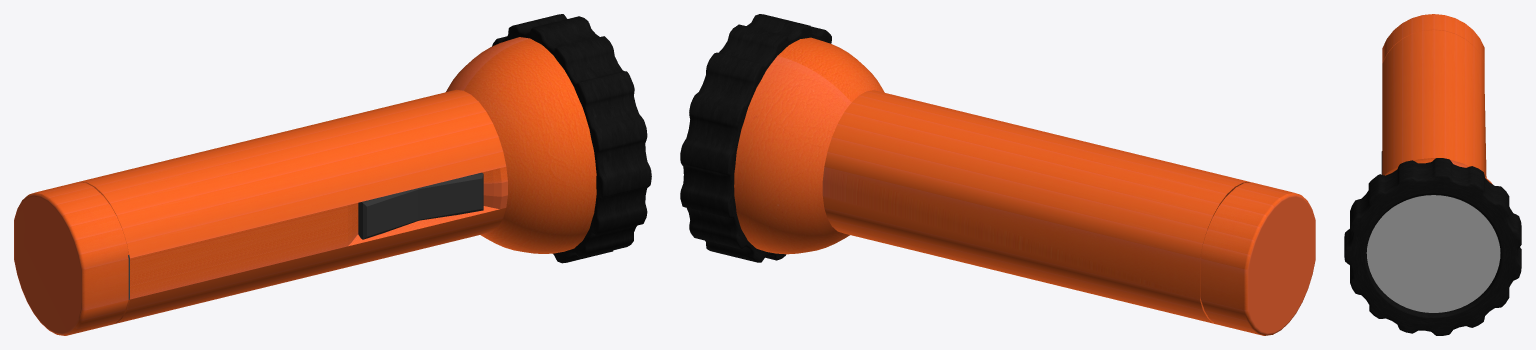
The model's file is flashlight3.fbx.
3 views of the same model, side by side, from view 1: azimuth 30°, elevation 25°; view 2: azimuth 150°, elevation 25°; view 3: azimuth 270°, elevation 25° (orthographic). The views are drawn at different scales.
Parts seen in each view (by area): view 1: pSphere3, pPipe1, pCube1; view 2: pSphere3, pPipe1; view 3: pSphere3, pPipe1, pCylinder1.
Part boxes in pixels (left/top/right/bottom): pSphere3: left=14, top=37, right=596, bottom=335; pPipe1: left=492, top=14, right=651, bottom=263; pCube1: left=358, top=172, right=483, bottom=239; pSphere3: left=734, top=37, right=1315, bottom=335; pPipe1: left=680, top=14, right=831, bottom=262; pSphere3: left=1382, top=14, right=1492, bottom=184; pPipe1: left=1344, top=158, right=1521, bottom=335; pCylinder1: left=1366, top=195, right=1500, bottom=312.
Size of the model in its own units: 5.47 by 2.12 by 2.11.
